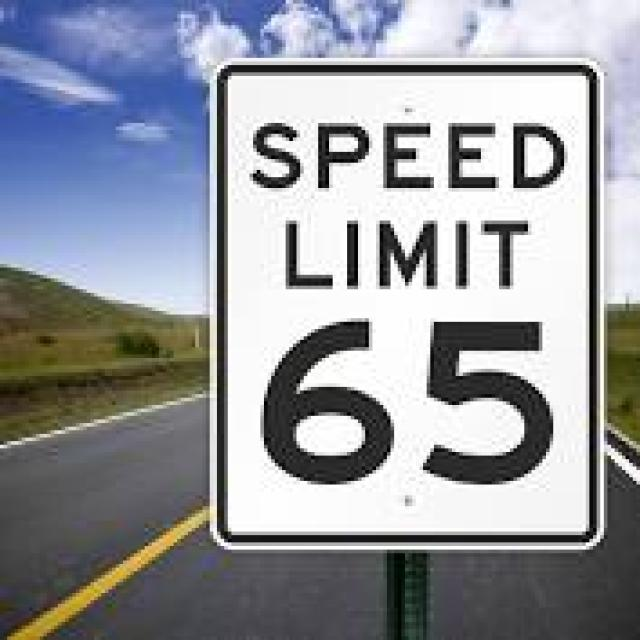speedLimit65: (201, 36, 613, 550)
